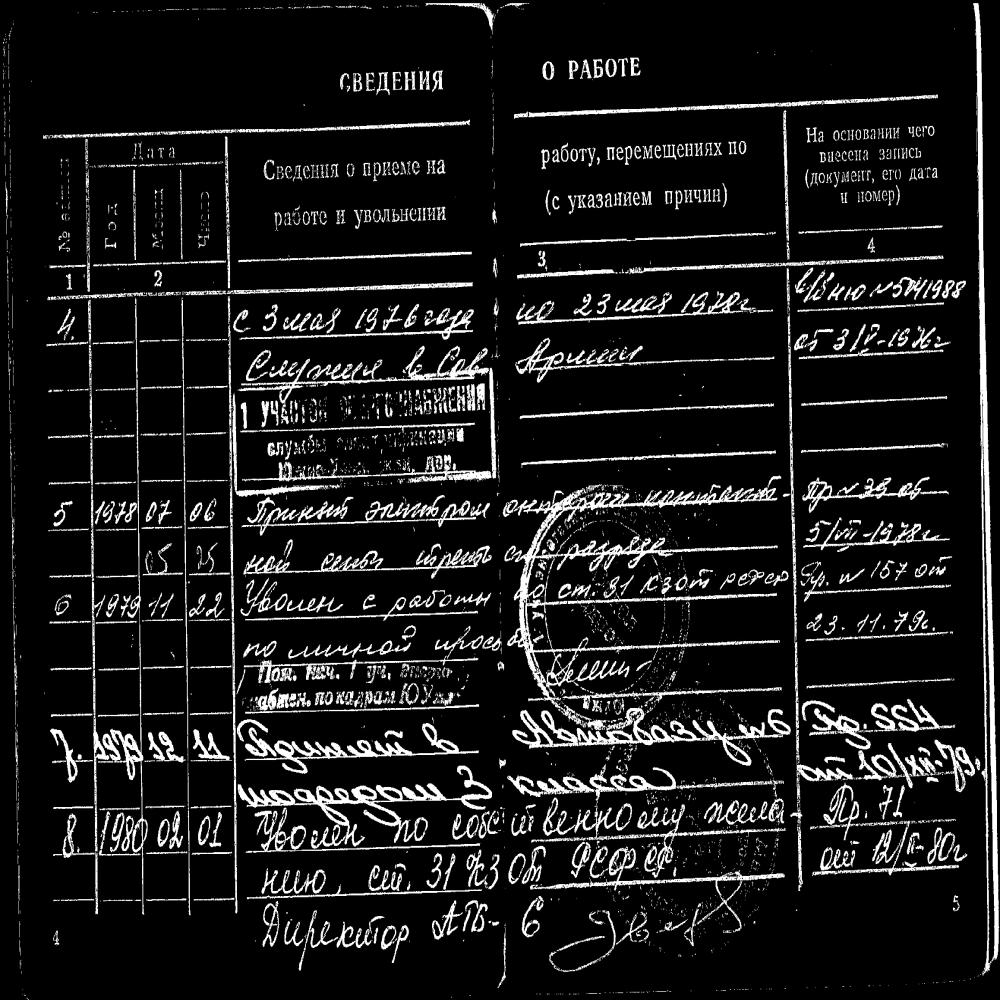rus: (248, 854, 676, 952), (245, 559, 790, 627), (236, 785, 787, 846), (241, 467, 780, 525), (797, 468, 953, 642), (234, 526, 708, 575), (531, 134, 750, 214), (793, 268, 971, 360), (256, 150, 454, 230), (244, 608, 534, 662), (793, 114, 946, 212), (238, 752, 498, 808), (508, 703, 796, 746), (238, 711, 462, 761), (239, 340, 491, 382), (504, 285, 765, 323), (48, 714, 226, 769), (798, 732, 976, 783), (327, 60, 648, 88), (802, 824, 978, 874), (516, 746, 685, 797), (234, 298, 479, 330), (50, 578, 231, 620), (52, 807, 222, 849), (50, 492, 228, 532), (806, 777, 920, 829), (804, 694, 952, 730), (509, 340, 658, 374), (134, 531, 232, 572)
